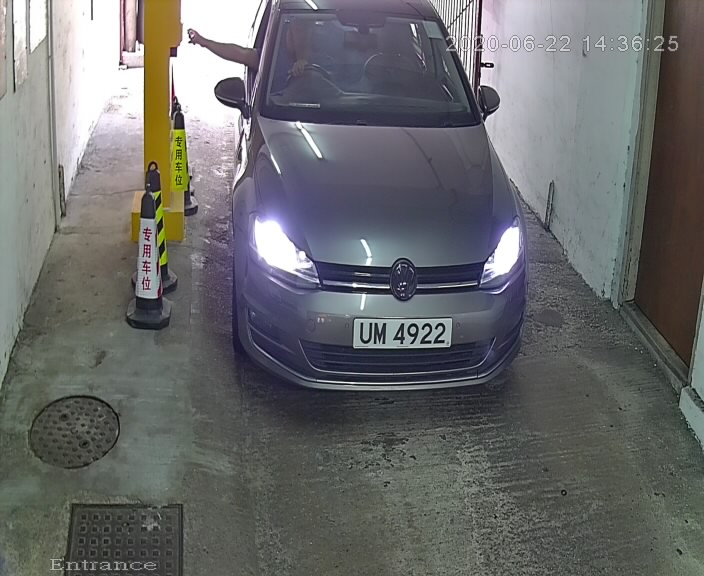privatecar: (197, 1, 538, 419)
